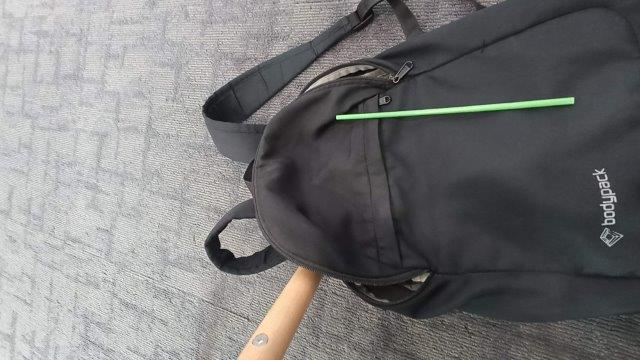sedotan: (336, 97, 574, 120)
